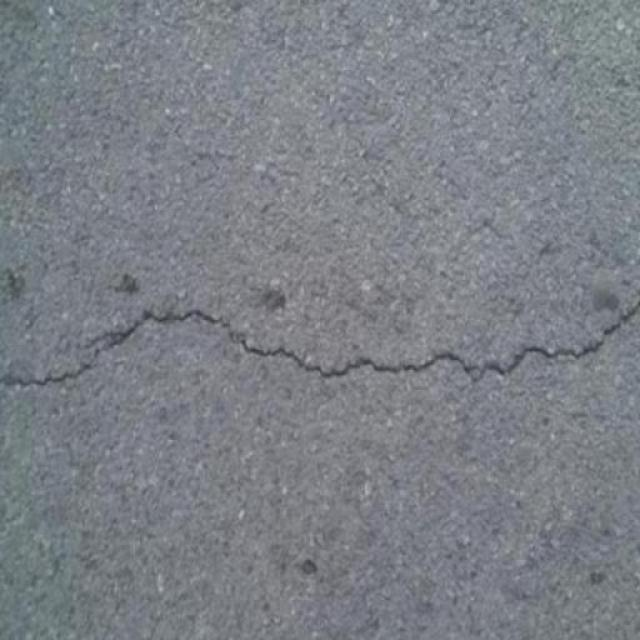Crack: (0, 282, 640, 400)
